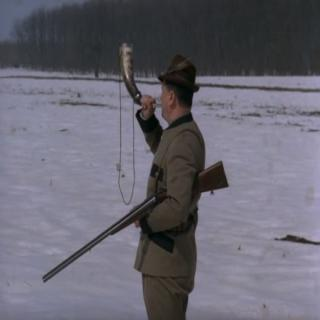gun: (41, 156, 231, 284)
